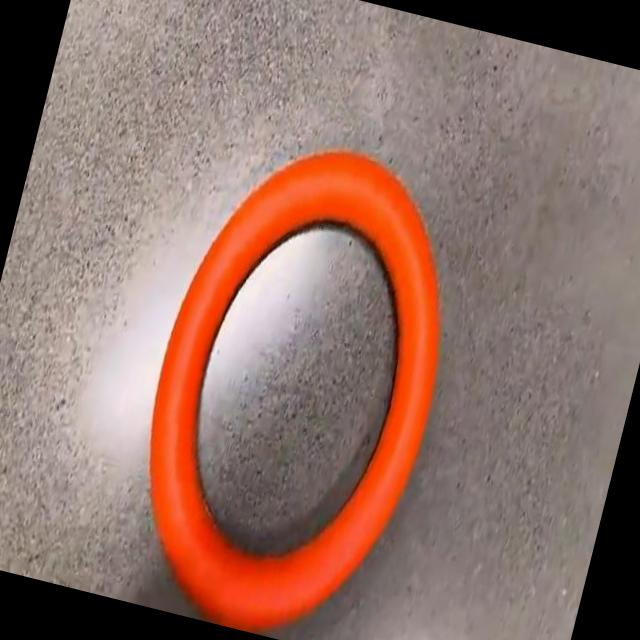note: (150, 151, 440, 628)
